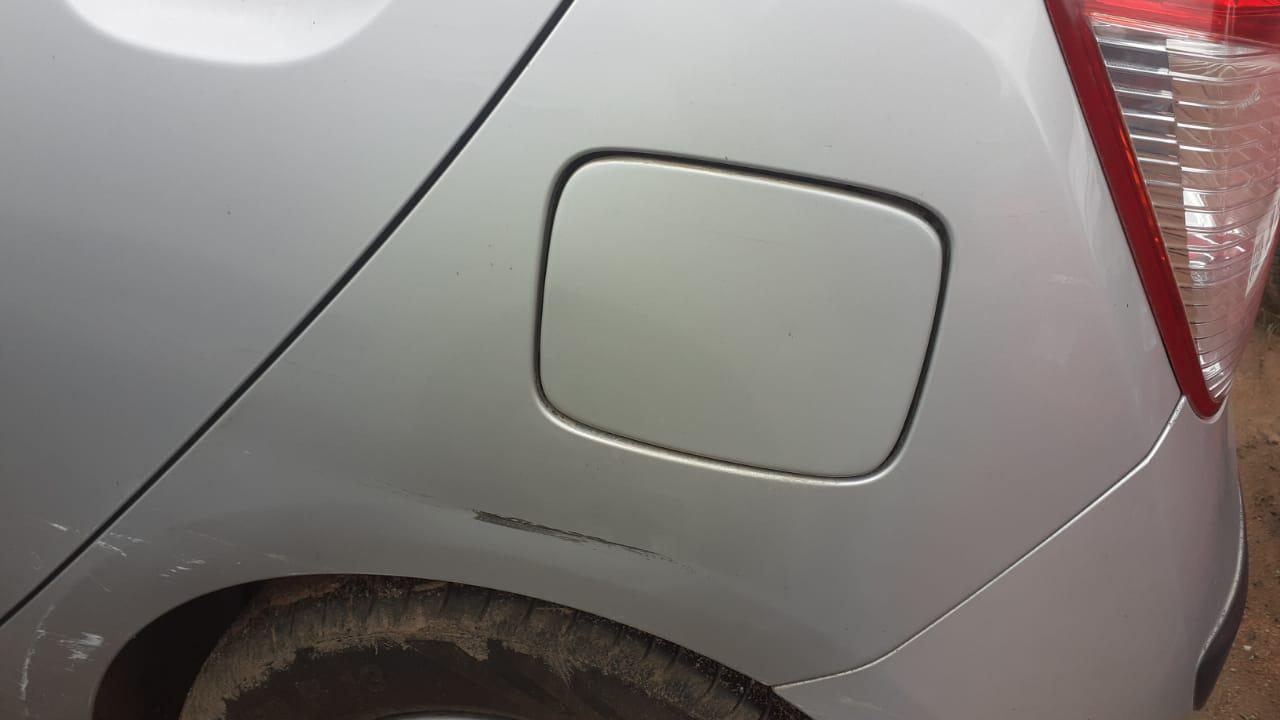quaterpanel-dent: (188, 401, 929, 719), (89, 530, 605, 719)
